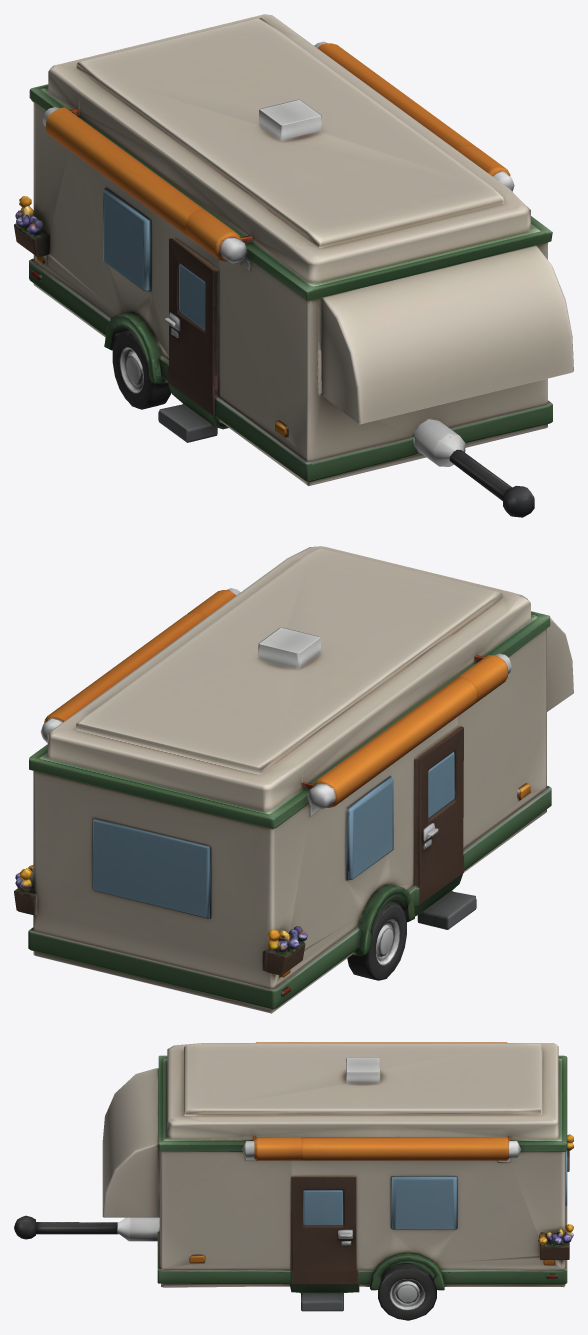
Rendered from caravan-blender-cleanup.glb.
The picture shows the model from 3 angles, top to bottom: view 1: azimuth 30°, elevation 25°; view 2: azimuth 150°, elevation 25°; view 3: azimuth 270°, elevation 25°; orthographic projection. The views are drawn at different scales.
Parts seen in each view (by area): view 1: tripo_node_74dfba72-6a36-4a79-9488-fdf13e062ec6; view 2: tripo_node_74dfba72-6a36-4a79-9488-fdf13e062ec6; view 3: tripo_node_74dfba72-6a36-4a79-9488-fdf13e062ec6.
Part boxes in pixels (bbox=[...]): tripo_node_74dfba72-6a36-4a79-9488-fdf13e062ec6: bbox=[14, 14, 573, 517]; tripo_node_74dfba72-6a36-4a79-9488-fdf13e062ec6: bbox=[14, 546, 573, 1013]; tripo_node_74dfba72-6a36-4a79-9488-fdf13e062ec6: bbox=[14, 1042, 573, 1320].
Bounding box in the file's own units: 0.4481 × 0.4129 × 1.
Materials: 1 (1 with a texture image).
